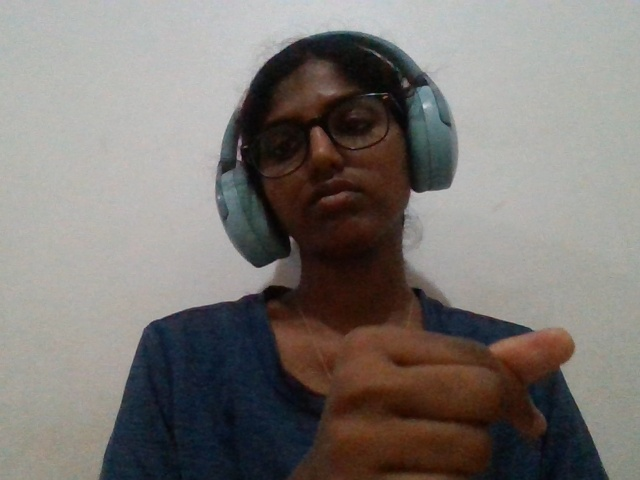G: (279, 255, 577, 480)
